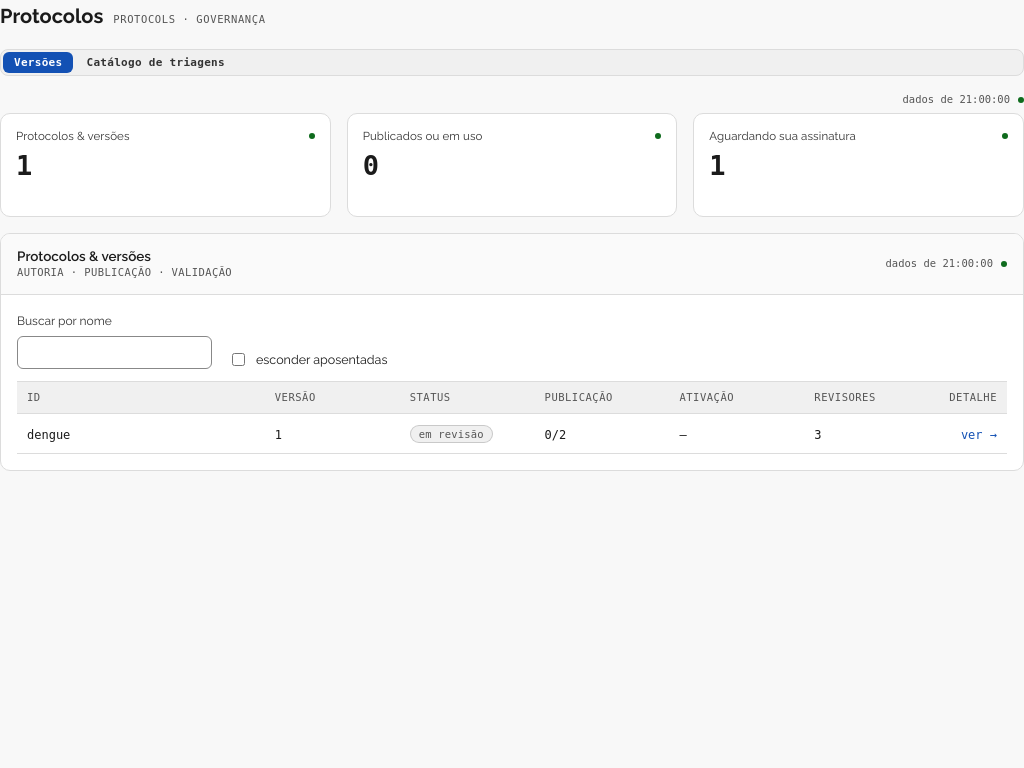
Test: Protocols › quem editou a versão vê a assinatura desabilitada com o motivo
Click the text "dengue" at (49, 435), box [27,428,70,442]
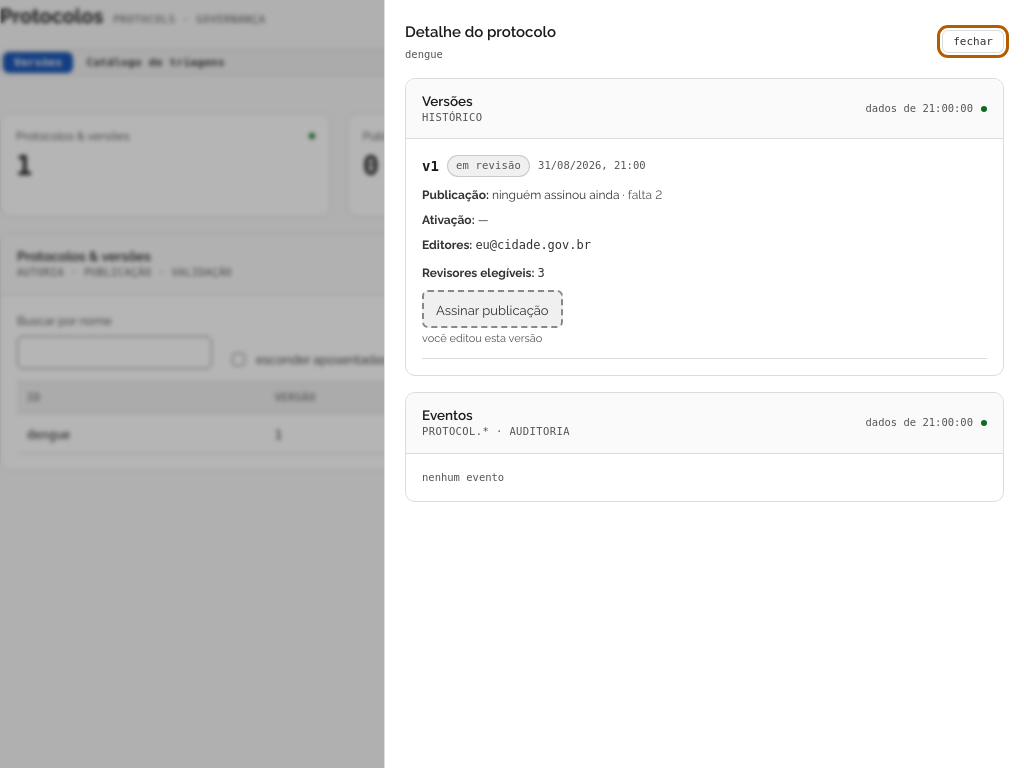
Expected: the button "Assinar publicação" is disabled, [422,290,563,328]
Expected: the text "você editou esta versão" is shown, [422,330,563,346]
